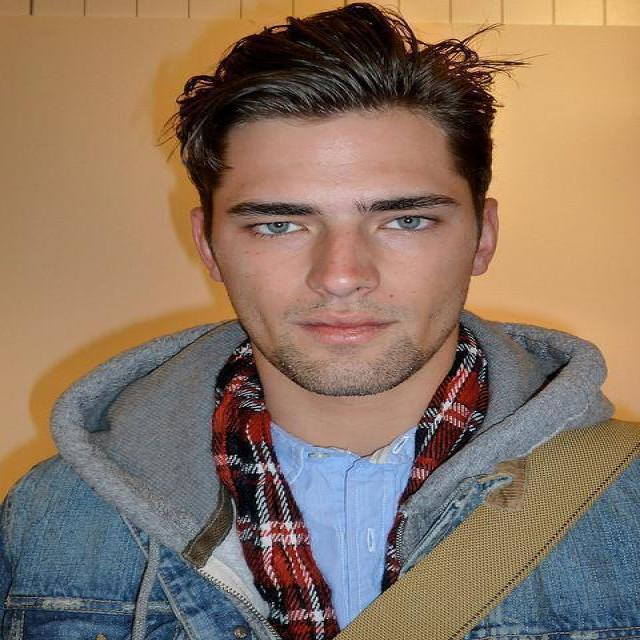0_rostro_limpio: (194, 64, 482, 399)
